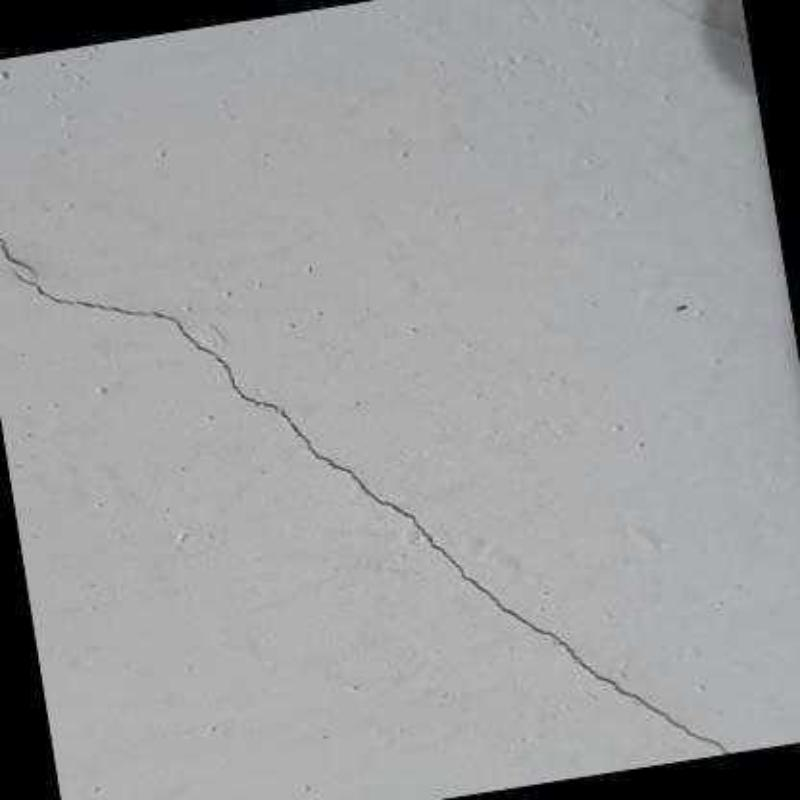pothole: (11, 269, 732, 754), (2, 239, 37, 278)
